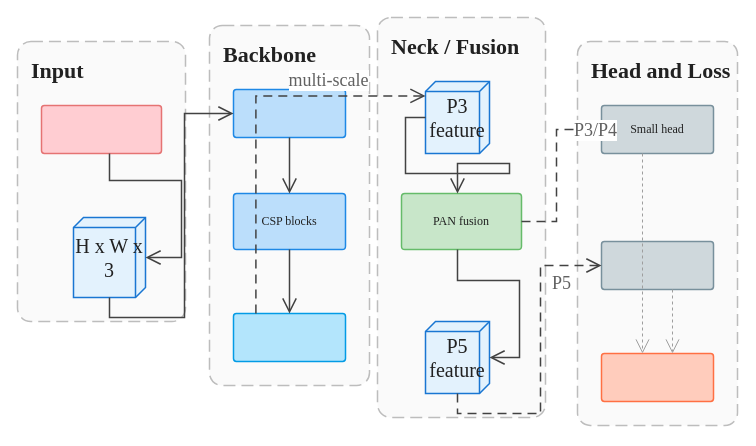
Some shapes in this 756 by 446 pixel diagram are drawn without their labels. The shapes that lost their labels are listed below. From the top down, each one's centre as x and y in pixels, then its label:
At (101,129): "Image batch".
At (289,113): "Stem Conv".
At (657,265): "Large head".
At (289,337): "SPPF".
At (657,377): "Box + cls loss".
